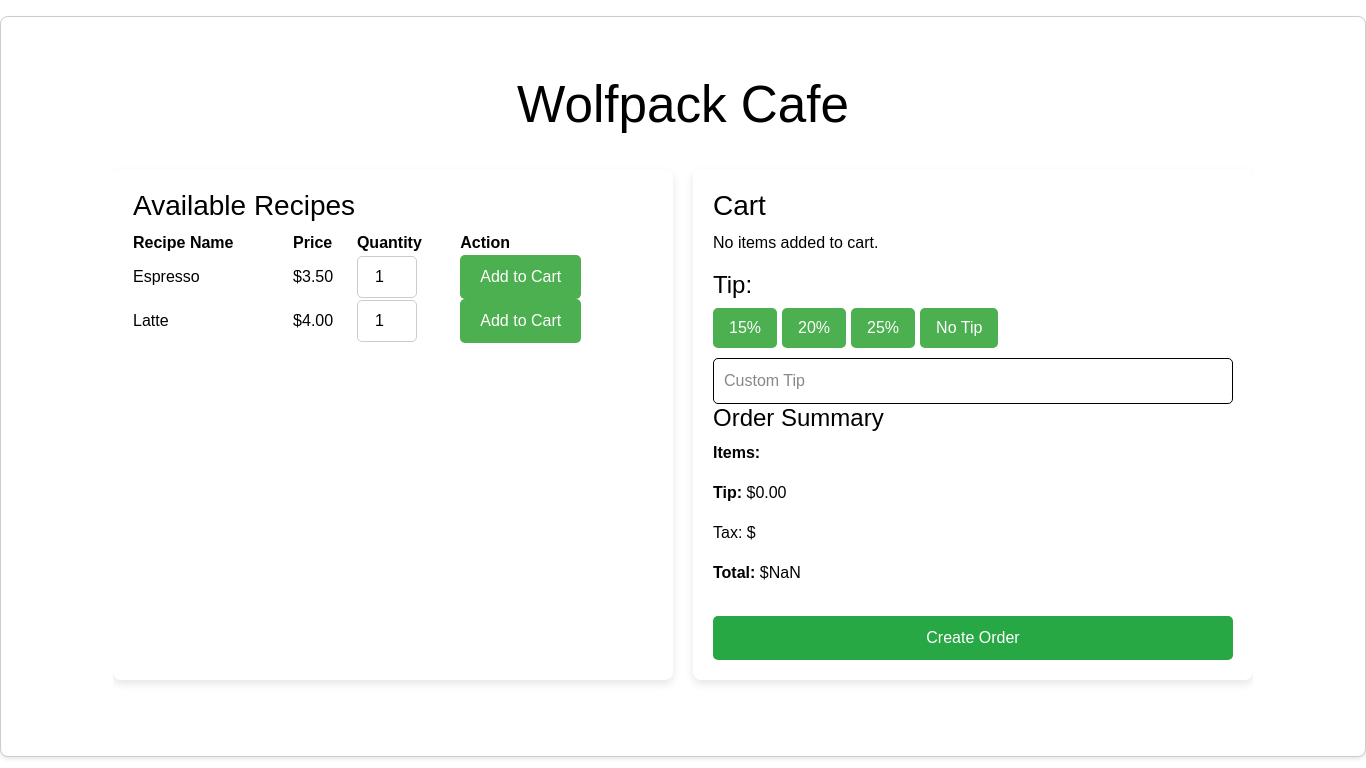
Test: CreateOrderComponent › displays validation error when quantity is zero
This screenshot has width=1366, height=768.
Check: the text "Espresso" is shown, box [133,268,200,285]
# **C. Find and Set Quantity to Zero Using fireEvent.change**
Step 1. Replace the text in the number field in the row of "Espresso" with "0" → (387, 277), box [357,256,417,298]
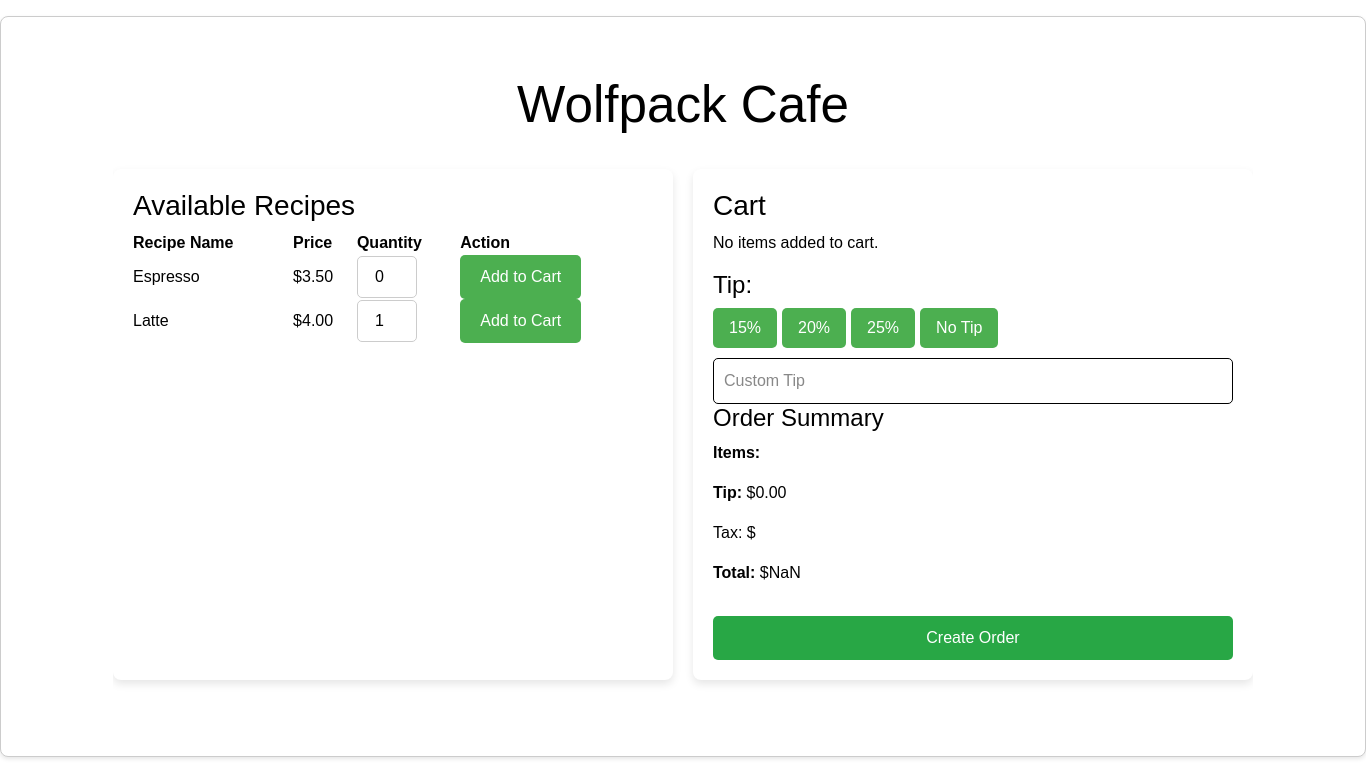
# **D. Click "Add to Cart" Button**
Step 2. Click the button "Add to Cart" in the row of "Espresso" → (521, 277), box [460,255,581,299]
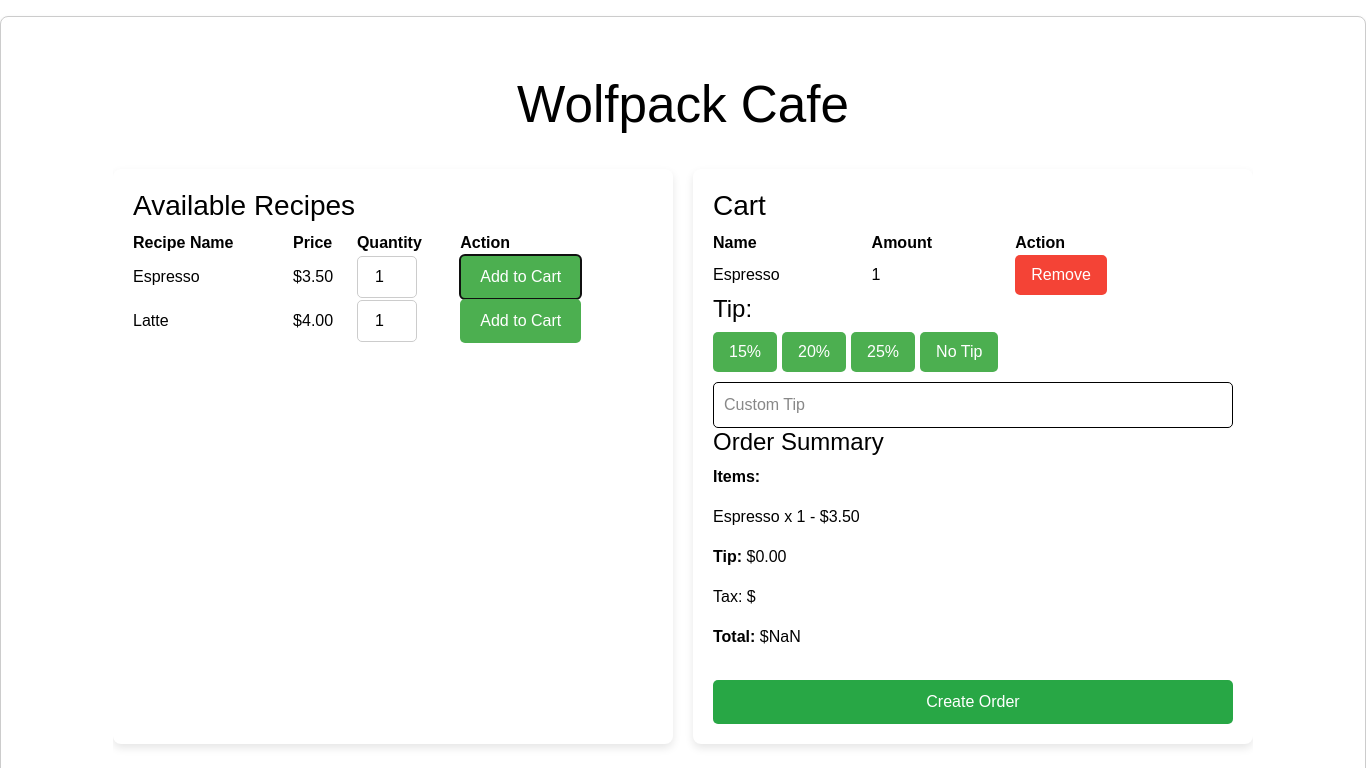
# **E. Click "Create Order" Button in Cart**
Step 3. Click the button "Create Order" → (973, 702), box [713,680,1233,724]
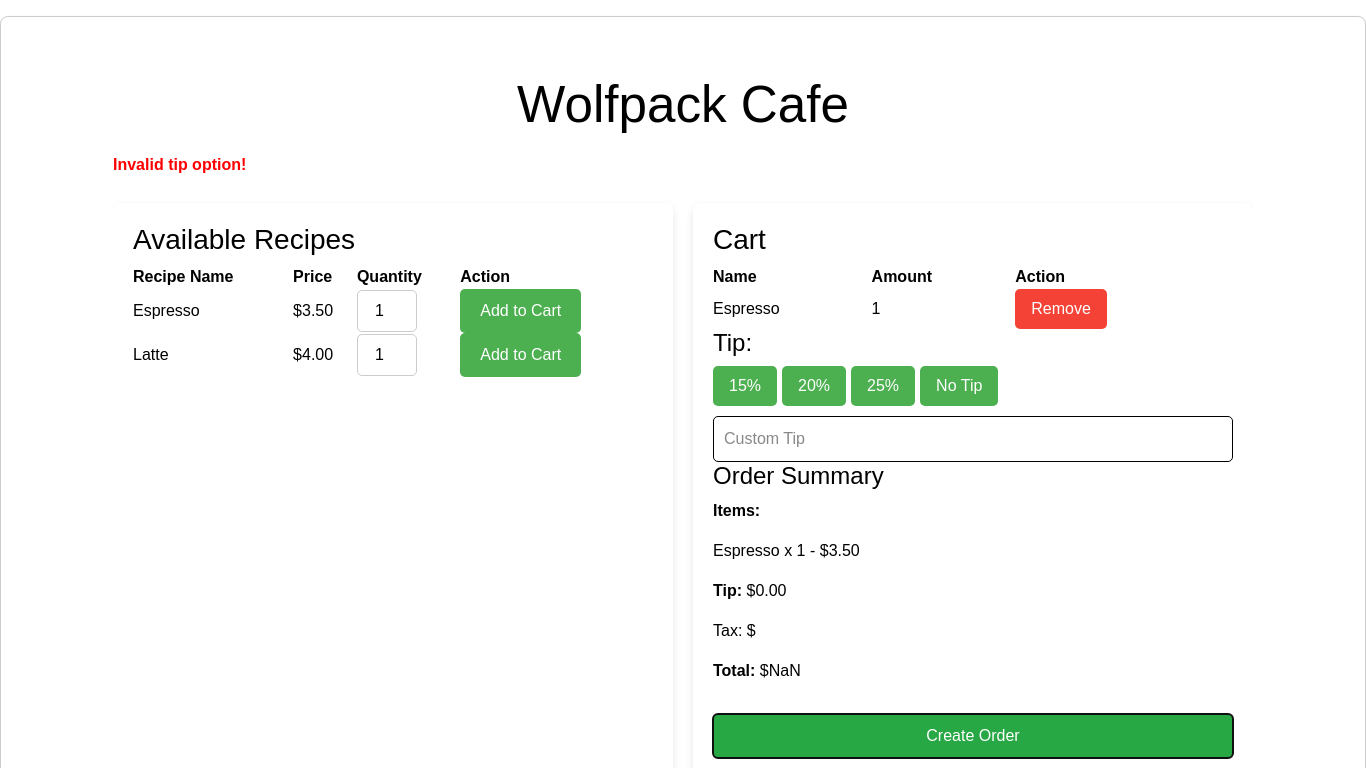
Check: the text "Invalid tip option!" is shown, box [113,156,246,173]
